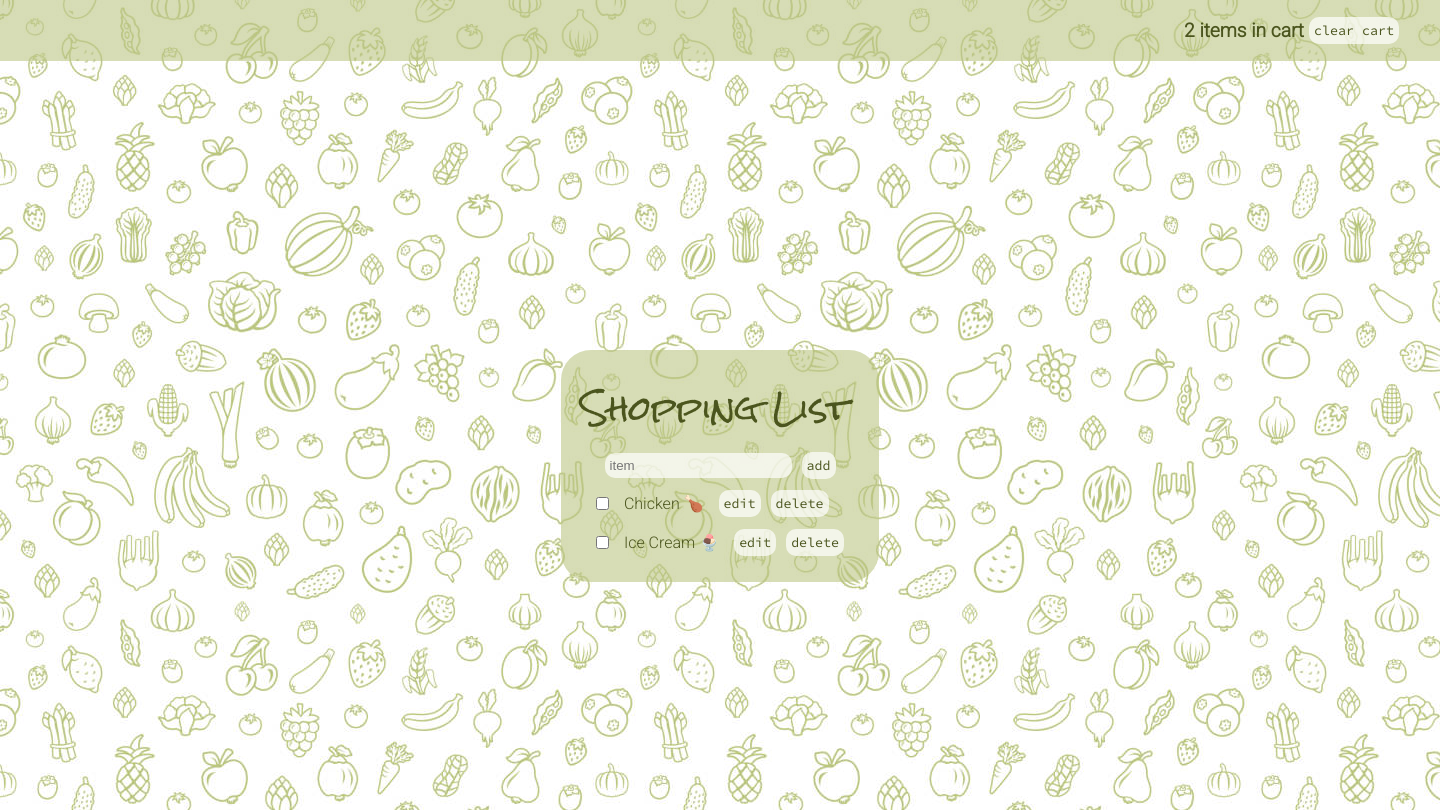
Test case: items can be added, deleted, and edited
The image size is (1440, 810).
Type "zebra" into the field. click: (698, 466)
box: [604,453,792,478]
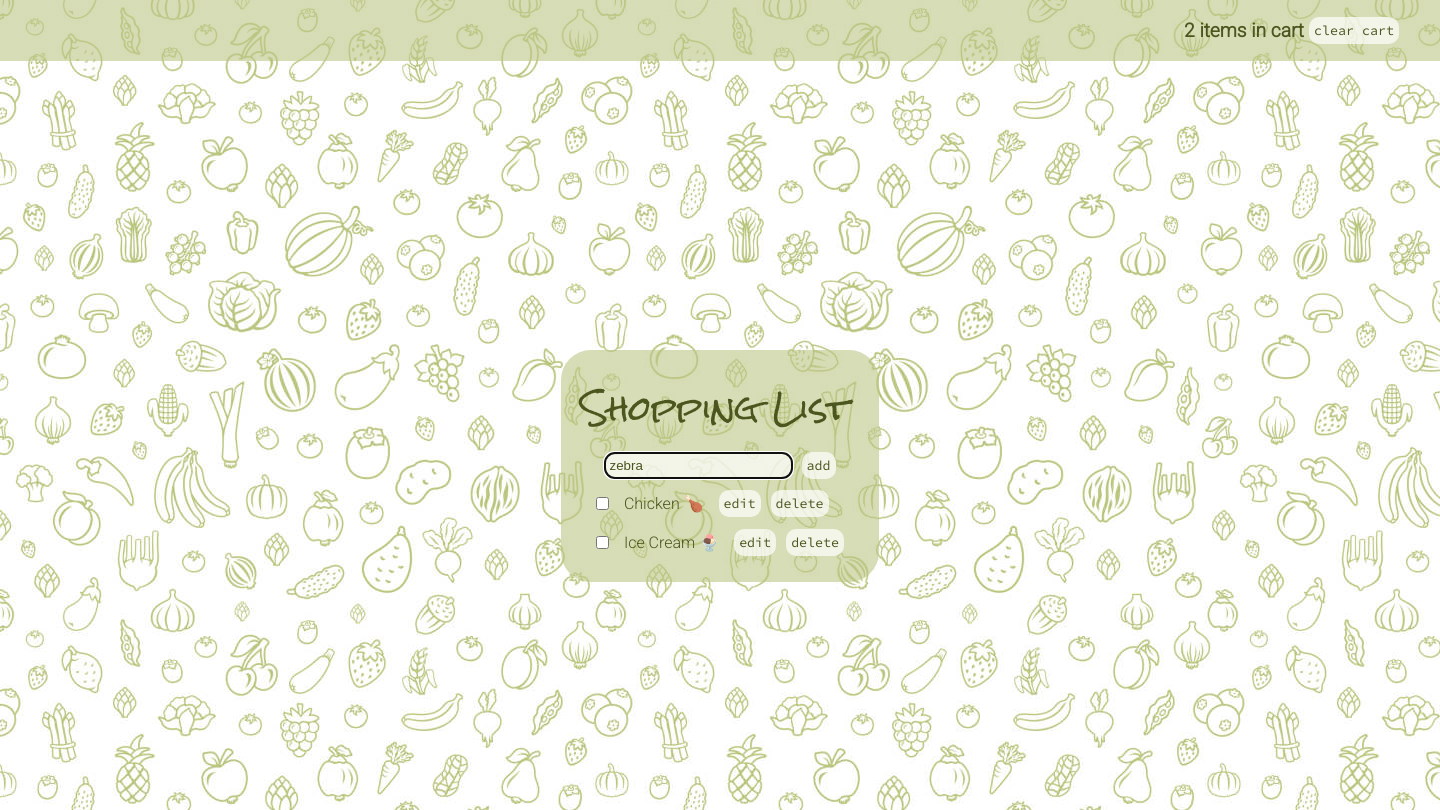
Click the button "Add". click: (818, 466)
box: [802,452,836,479]
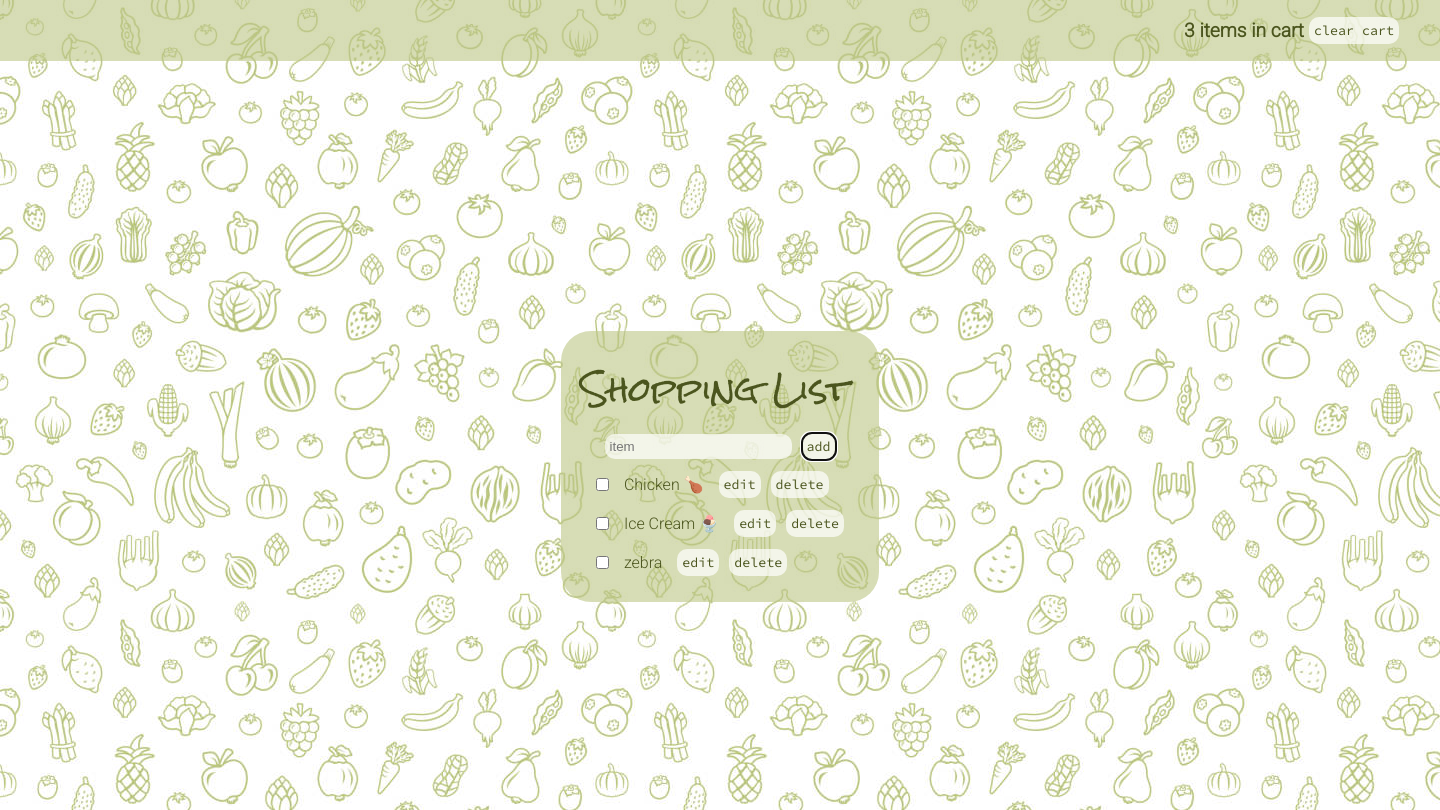
Expected: the text "zebra" is shown, [624,553,662,572]
Click the button with aria-label "delete zebra". click: (758, 562)
box: [729,549,787,576]
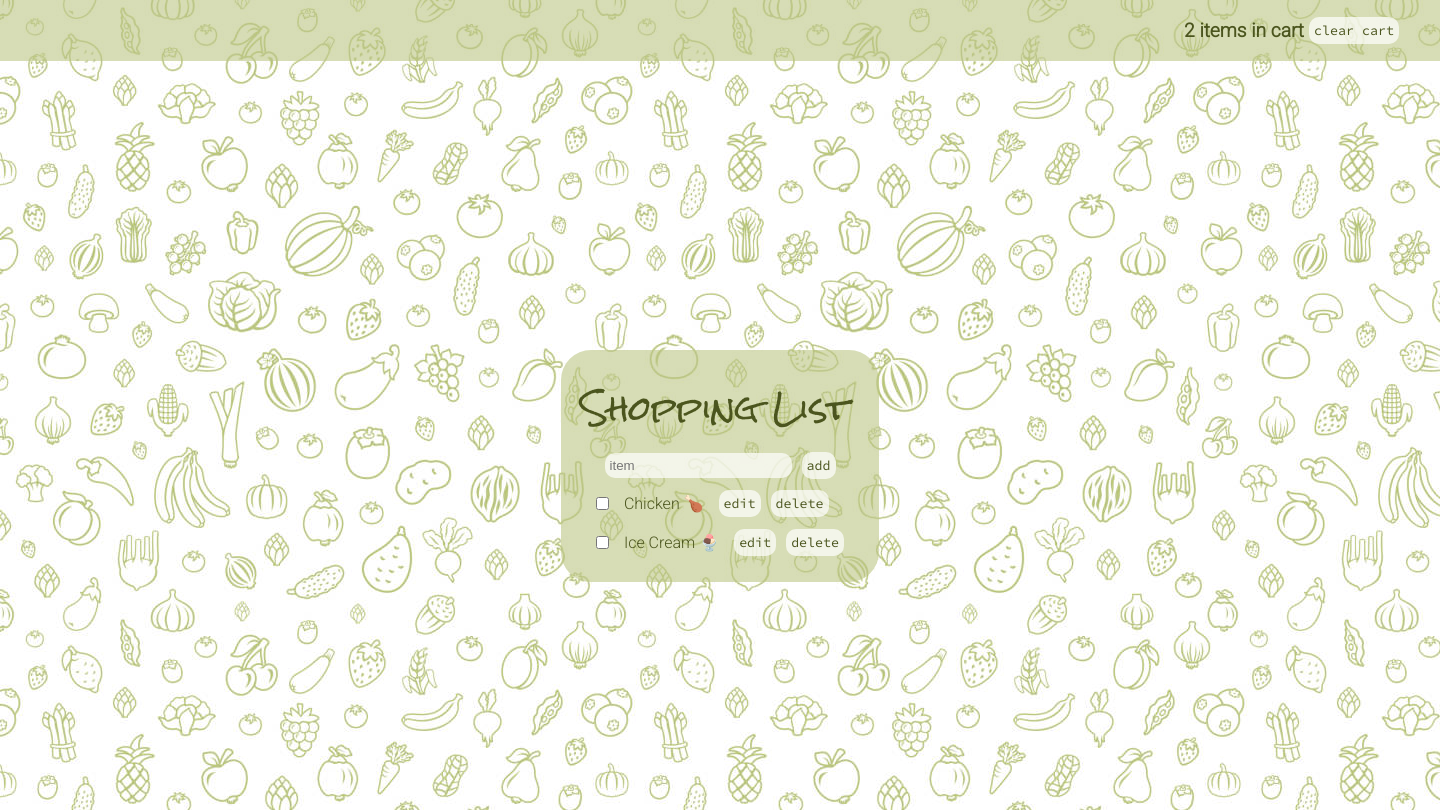
Expected: the text "zebra" is gone
Click the button with aria-label "edit Ice Cream 🍨". click: (755, 543)
box: [734,529,776,556]
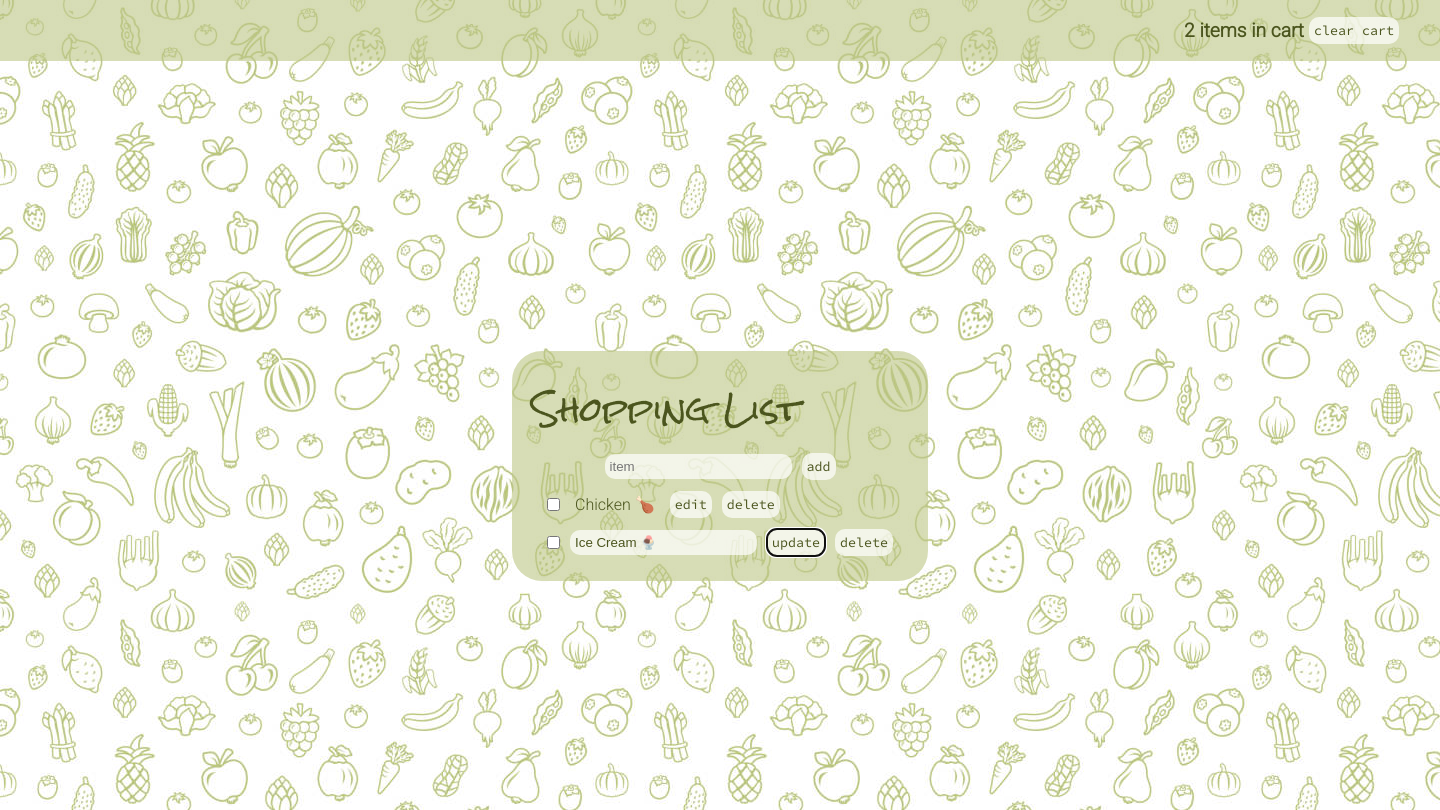
Type "2" into the field showing "Ice Cream 🍨". click: (664, 543)
box: [570,530,757,555]
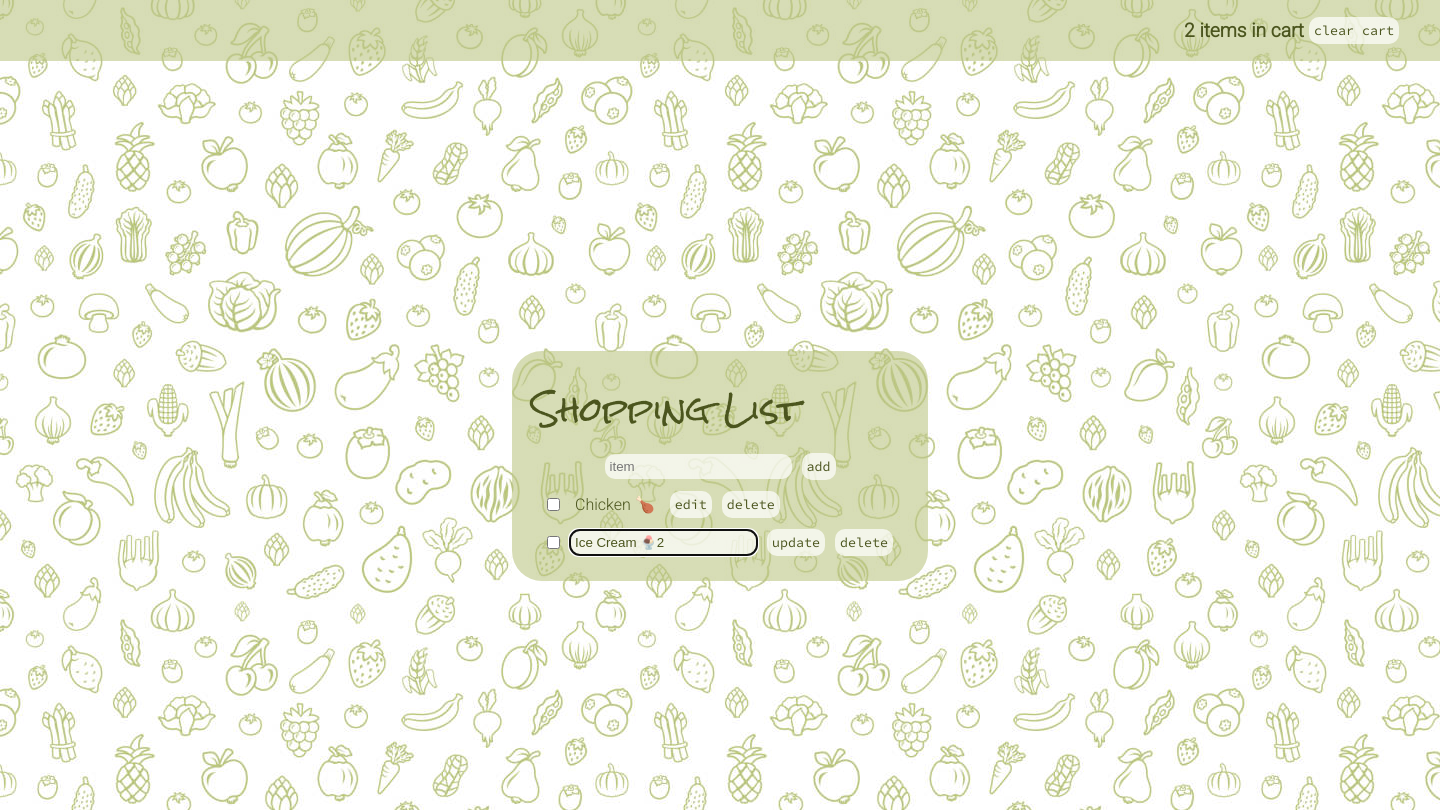
Click the button "update". click: (796, 543)
box: [767,529,825,556]
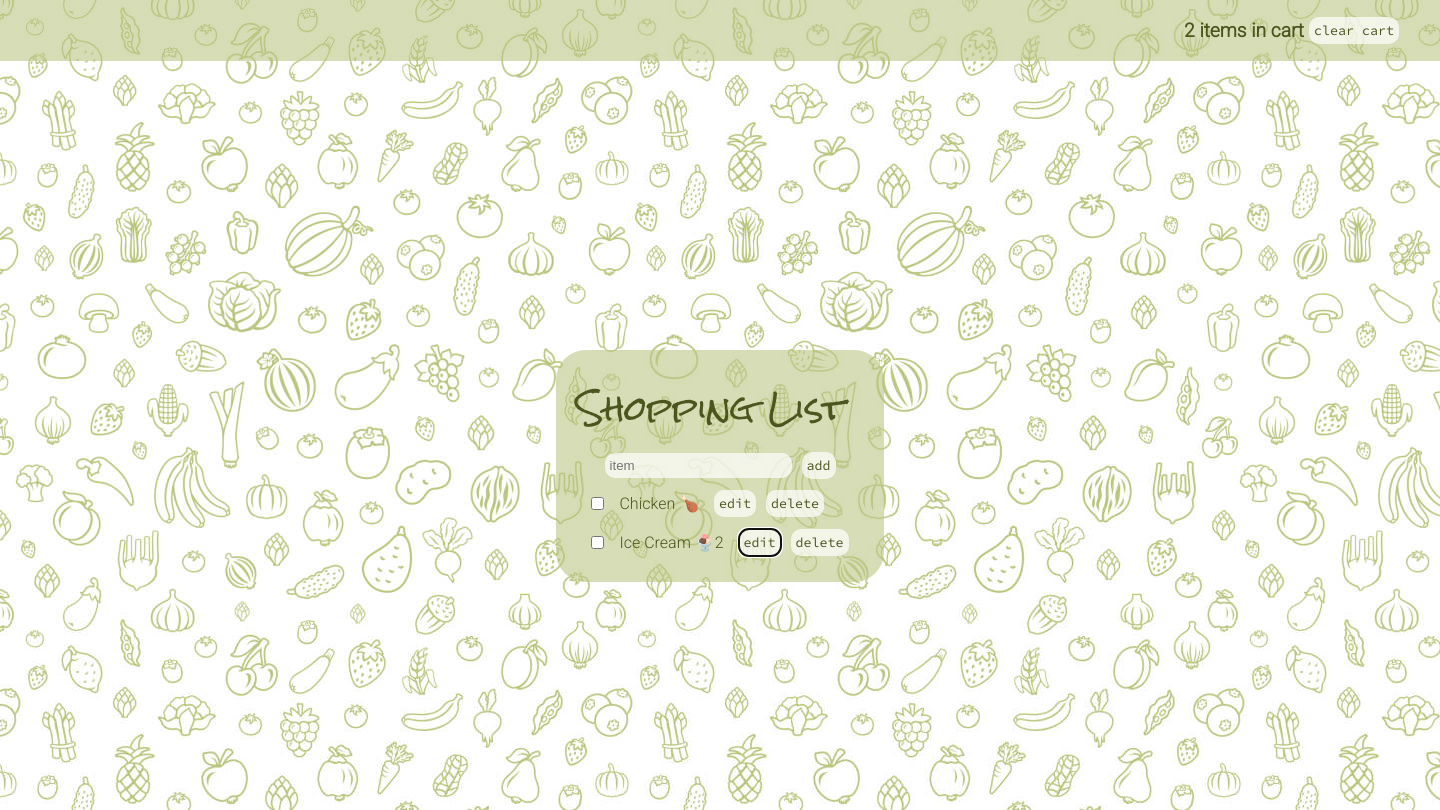
Expected: the text "Ice Cream 🍨2" is shown, [620,533,724,552]
